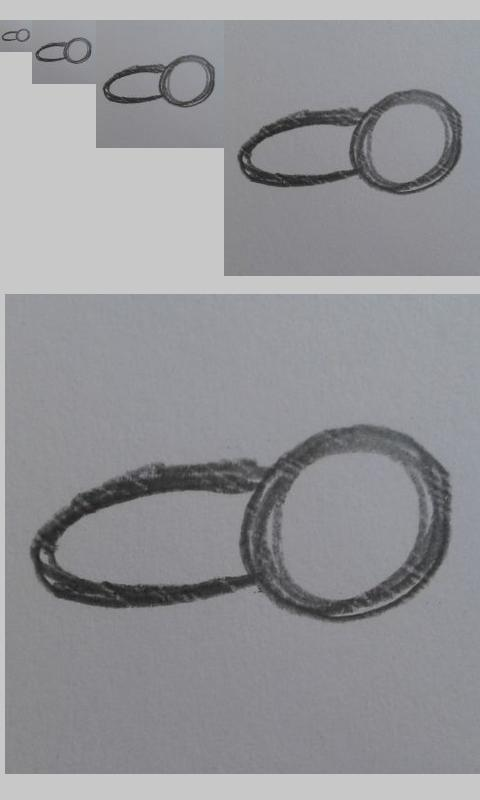switch: (25, 423, 455, 623), (235, 88, 464, 195), (102, 54, 216, 108), (35, 37, 92, 65), (1, 28, 31, 42)
